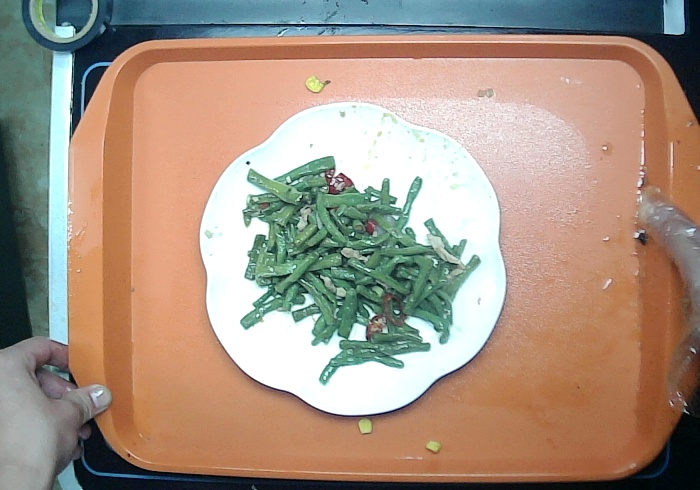HZYJPL-Bai_Se_Hua_Duo_Wan: (198, 99, 510, 418)
